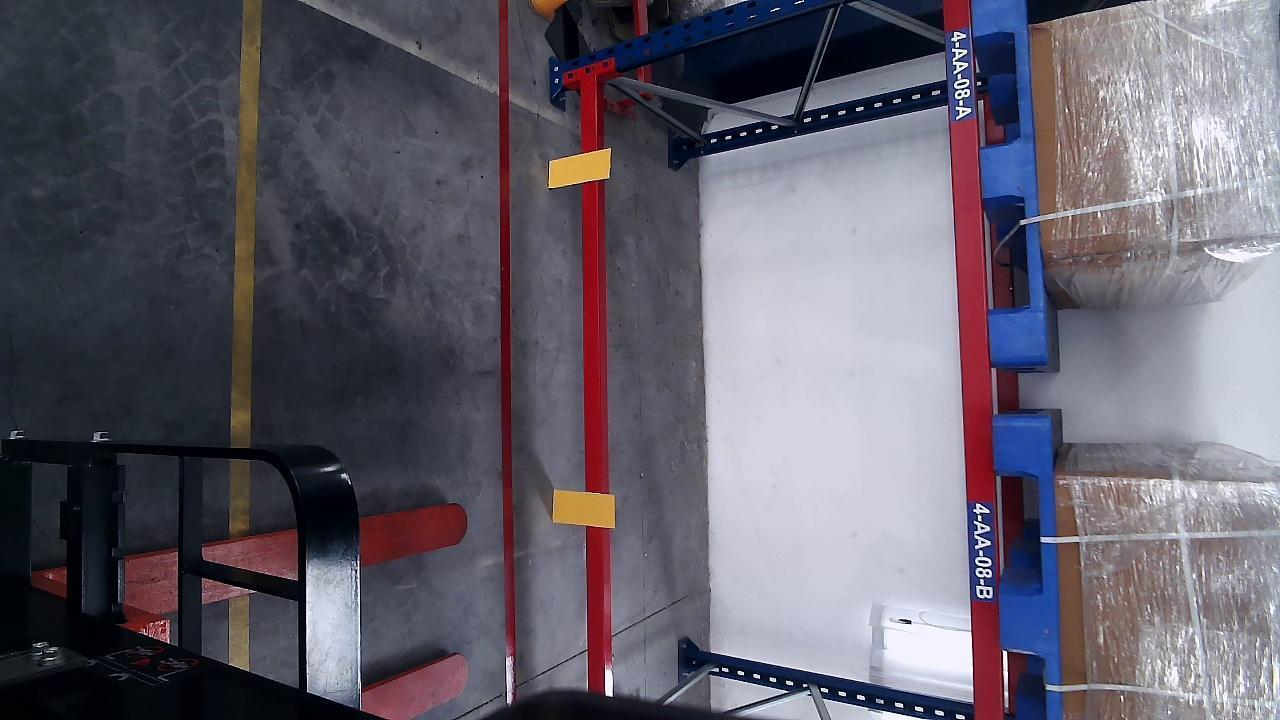red_line: (494, 2, 520, 711)
yellow_line: (229, 0, 264, 671)
